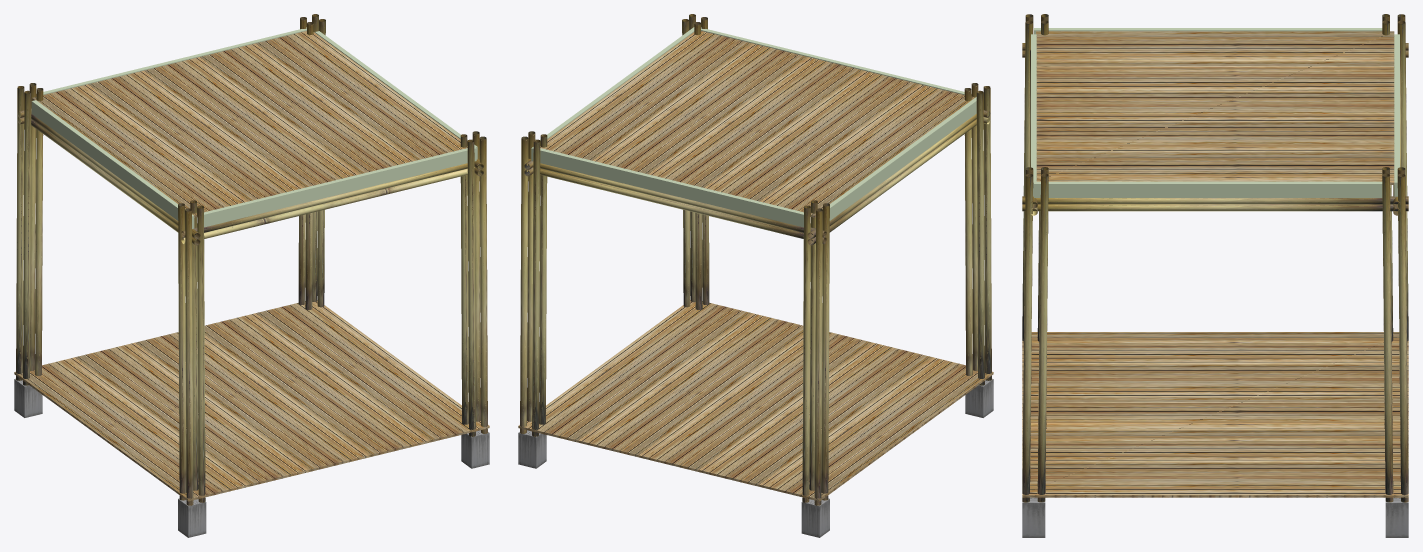
The model's file is module-connector.glb.
The picture shows the model from 3 angles, left to right: view 1: azimuth 30°, elevation 25°; view 2: azimuth 150°, elevation 25°; view 3: azimuth 270°, elevation 25°; orthographic projection. The views are drawn at different scales.
Visible parts, largest first — view 1: connector; view 2: connector; view 3: connector.
Boxes of the visible parts, <box> form: connector: <box>14,14,489,537</box>; connector: <box>518,14,993,537</box>; connector: <box>1022,14,1408,537</box>.
Bounding box in the file's own units: 5 × 5.15 × 5.
Materials: 4 (3 with a texture image).
